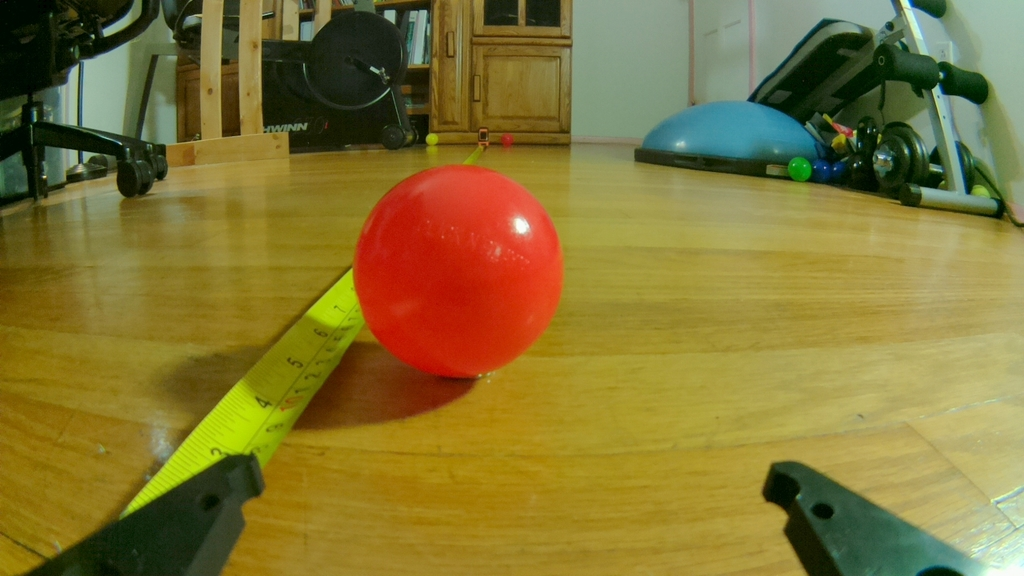ball: (354, 164, 568, 384)
